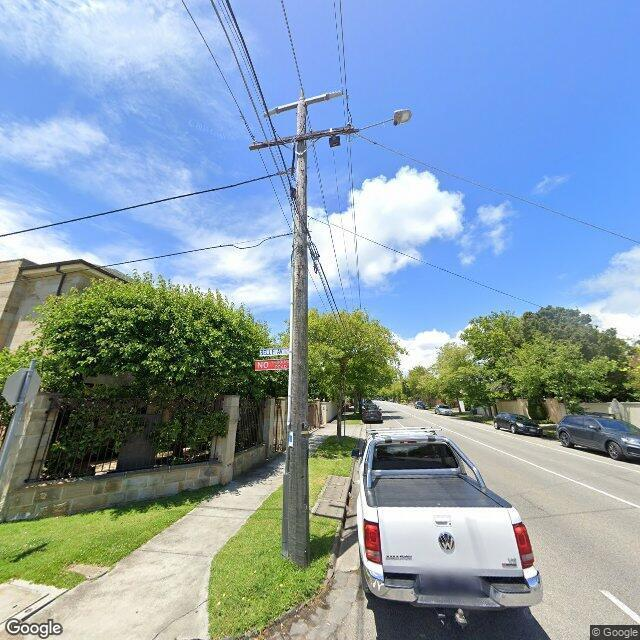HV-transmission: (264, 88, 342, 118)
crossarm: (249, 126, 355, 150), (276, 94, 327, 113)
streetlight: (353, 110, 412, 132)
timber-pole: (286, 100, 309, 567)
